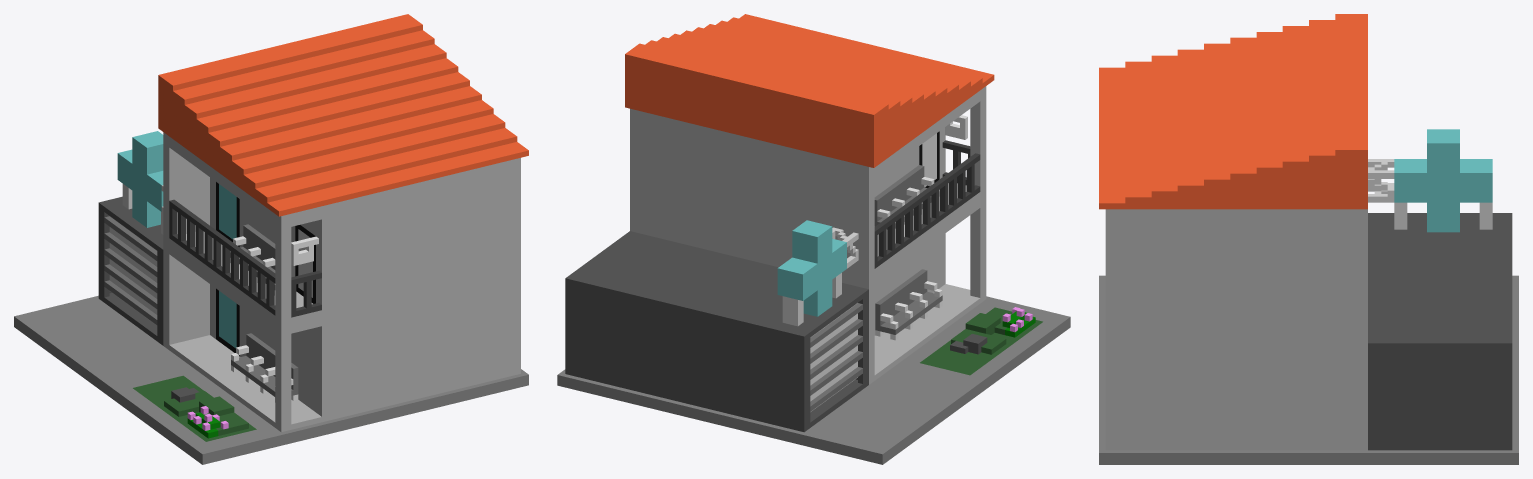
Rendered from hospital.obj.
3 views of the same model, side by side, from view 1: azimuth 30°, elevation 25°; view 2: azimuth 150°, elevation 25°; view 3: azimuth 270°, elevation 25° (orthographic). The views are drawn at different scales.
Size of the model in its own units: 6.4 by 5.3 by 6.4.
Materials: 1 (1 with a texture image).
